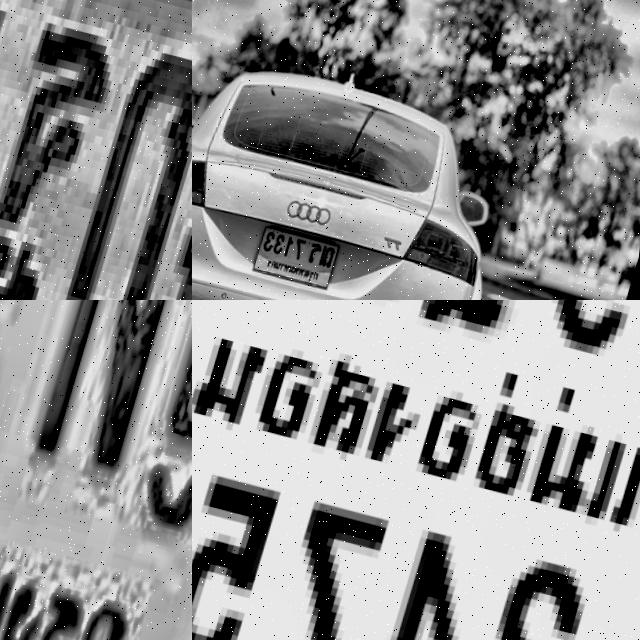license-plate: (192, 300, 640, 640), (0, 300, 192, 640), (0, 0, 192, 300), (254, 218, 350, 291)
